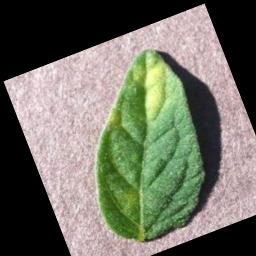Leaf_Mold: (112, 44, 189, 129)
